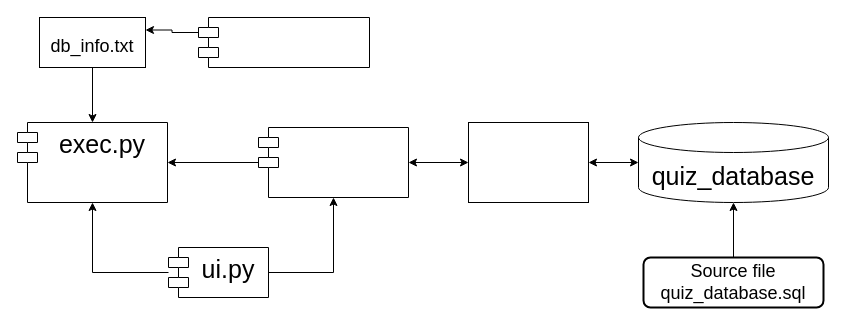
Some shapes in this 846 by 326 pixel diagram are drawn without their labels. The shapes that lost their labels are listed below. From the top down, each one's box as (x1, y1, x2, y2) in pixels, then its label:
(198, 16, 370, 68): set_db_info.py
(258, 126, 408, 198): users.py
(468, 122, 588, 202): «interface» mysql .connector
